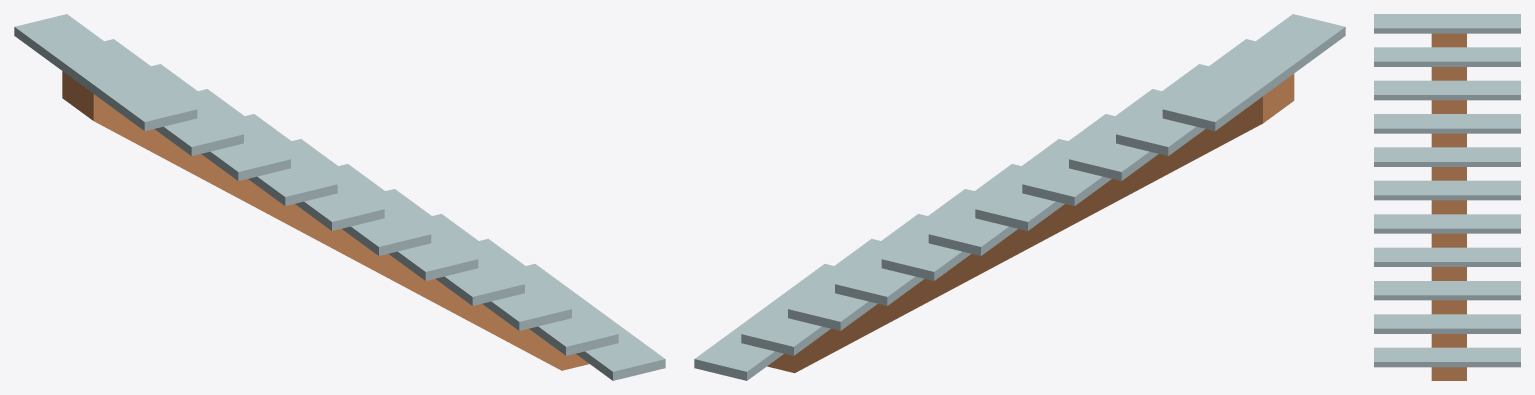
File: Ladder-Slope.glb
3 views of the same model, side by side, from view 1: azimuth 30°, elevation 25°; view 2: azimuth 150°, elevation 25°; view 3: azimuth 270°, elevation 25° (orthographic). The views are drawn at different scales.
Parts seen in each view (by area): view 1: stairsOpenSingle, Group; view 2: stairsOpenSingle, Group; view 3: stairsOpenSingle, Group.
Part boxes in pixels (x1,y1,x2,y2): stairsOpenSingle: [14, 14, 665, 380]; Group: [62, 71, 589, 370]; stairsOpenSingle: [694, 14, 1345, 380]; Group: [767, 74, 1294, 373]; stairsOpenSingle: [1374, 14, 1520, 367]; Group: [1431, 33, 1466, 380].
Bounding box in the file's own units: 1.82 × 1.34 × 0.79.
